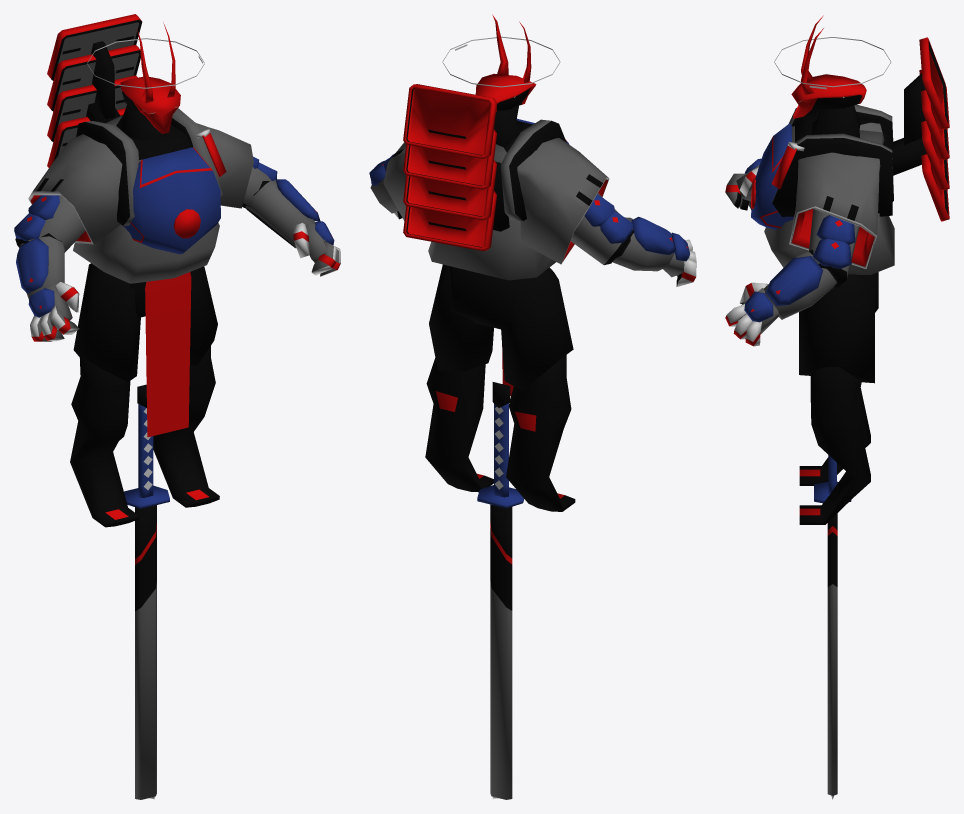
Rendered from SHOGUN_Lowpoly.obj.
3 renders of one model, left to right at view 1: azimuth 30°, elevation 25°; view 2: azimuth 150°, elevation 25°; view 3: azimuth 270°, elevation 25°, orthographic.
Visible parts, largest first — view 1: Cube.018_Cube.020, Cube.017_Cube.019, Cube.008_Cube.009, Cube.032_Cube.039, Cube.044_Cube.061, Cube.004_Cube.005, Cube.025_Cube.031, Cube.020_Cube.011, Cube.016_Cube.018, Cube.005_Cube.006, Cube.019_Cube.011, Cube.031_Cube.038 (+13 smaller); view 2: Cube.018_Cube.020, Cube.044_Cube.061, Cube.032_Cube.039, Cube.020_Cube.011, Cube.004_Cube.005, Cube.003, Cube.011, Cube.019_Cube.011, Cube.010_Cube.011, Cube.025_Cube.031, Cube.031_Cube.038, Cube.016_Cube.018 (+8 smaller); view 3: Cube.018_Cube.020, Cube.005_Cube.006, Cube.025_Cube.031, Cube.032_Cube.039, Cube.016_Cube.018, Cube.004_Cube.005, Cube.017_Cube.019, Cube.028_Cube.035, Cube.020_Cube.011, Cube.015_Cube.017, Cube.024_Cube.030, Cube.007_Cube.008 (+12 smaller).
Part boxes in pixels (<box>): Cube.018_Cube.020: <box>70,263,219,527</box>; Cube.017_Cube.019: <box>123,147,220,254</box>; Cube.008_Cube.009: <box>145,272,191,437</box>; Cube.032_Cube.039: <box>135,505,156,799</box>; Cube.044_Cube.061: <box>28,116,122,244</box>; Cube.004_Cube.005: <box>73,159,219,283</box>; Cube.025_Cube.031: <box>76,108,222,225</box>; Cube.020_Cube.011: <box>47,14,142,80</box>; Cube.016_Cube.018: <box>120,23,180,133</box>; Cube.005_Cube.006: <box>121,116,253,208</box>; Cube.019_Cube.011: <box>47,44,140,111</box>; Cube.031_Cube.038: <box>124,384,169,799</box>; Cube.018_Cube.020: <box>425,264,575,511</box>; Cube.044_Cube.061: <box>494,138,609,264</box>; Cube.032_Cube.039: <box>490,504,512,799</box>; Cube.020_Cube.011: <box>403,84,496,158</box>; Cube.004_Cube.005: <box>428,217,555,280</box>; Cube.003: <box>449,266,520,329</box>; Cube.011: <box>403,160,496,220</box>; Cube.019_Cube.011: <box>403,129,496,189</box>; Cube.010_Cube.011: <box>403,191,496,250</box>; Cube.025_Cube.031: <box>500,119,566,220</box>; Cube.031_Cube.038: <box>477,382,523,799</box>; Cube.016_Cube.018: <box>475,14,536,111</box>; Cube.018_Cube.020: <box>799,275,874,524</box>; Cube.005_Cube.006: <box>789,130,884,268</box>; Cube.025_Cube.031: <box>772,104,893,216</box>; Cube.032_Cube.039: <box>827,513,837,795</box>; Cube.016_Cube.018: <box>791,15,866,118</box>; Cube.004_Cube.005: <box>764,126,894,274</box>; Cube.017_Cube.019: <box>751,123,793,229</box>; Cube.028_Cube.035: <box>765,256,823,305</box>; Cube.020_Cube.011: <box>919,37,949,130</box>; Cube.015_Cube.017: <box>812,105,860,137</box>; Cube.024_Cube.030: <box>904,73,925,144</box>; Cube.007_Cube.008: <box>764,249,837,319</box>.
Bounding box in the file's own units: 1.09 × 2.61 × 0.6853.
